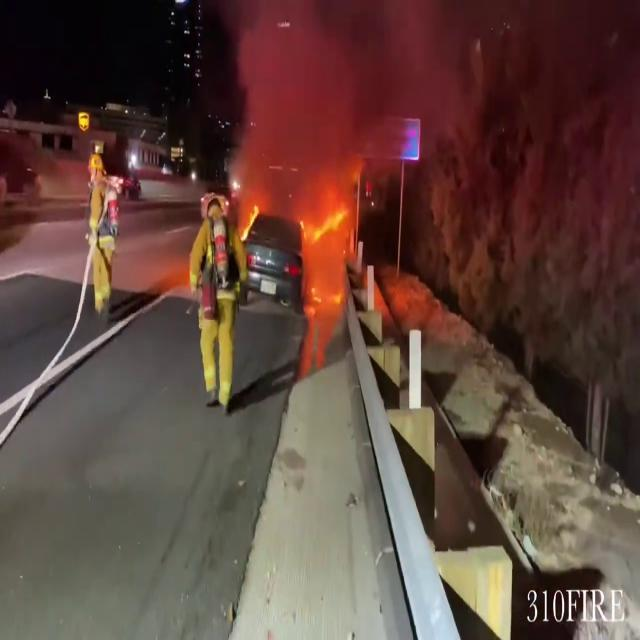Fire: (296, 194, 349, 356)
Smoke: (218, 0, 458, 186)
